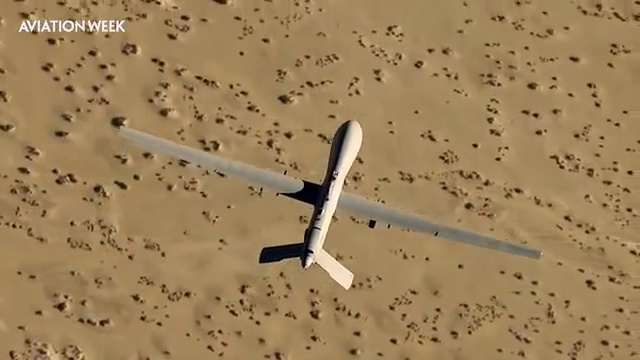military drone: (119, 119, 542, 291)
